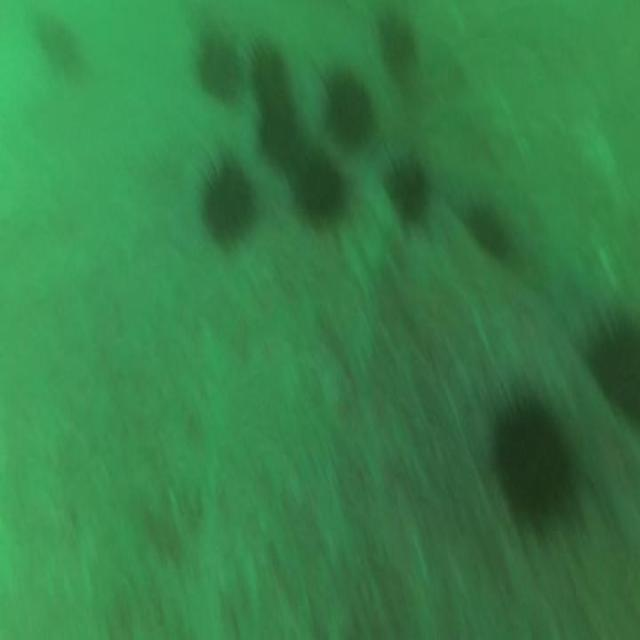echinus: (495, 400, 569, 521), (590, 338, 640, 424), (201, 169, 249, 243), (326, 74, 372, 146), (296, 155, 344, 216), (387, 153, 425, 226), (200, 41, 242, 101), (258, 100, 298, 160), (464, 204, 505, 253), (252, 51, 290, 101), (382, 17, 412, 73)
